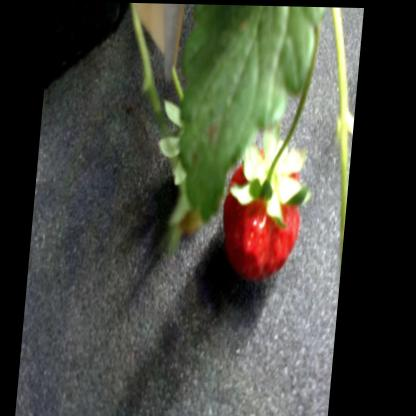ripe: (210, 133, 319, 296)
